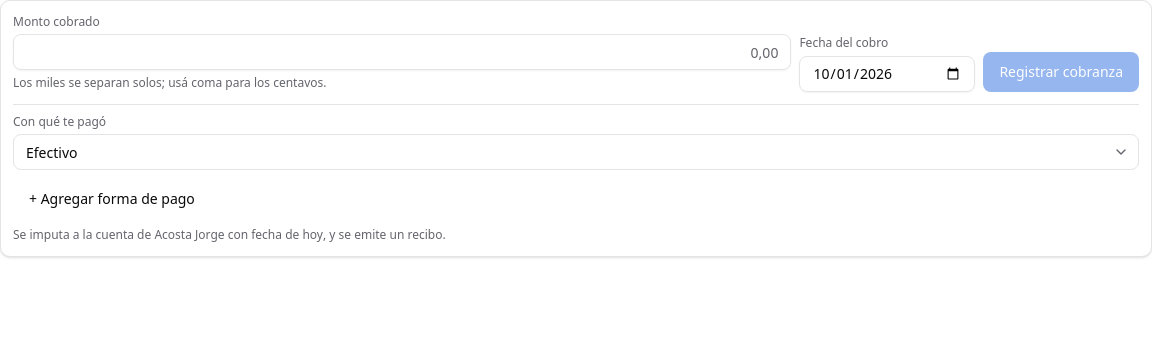
it: FormularioImputacion — formas de pago › agregar una segunda forma muestra los importes y bloquea hasta repartir
In the field labelled "Monto cobrado": (402, 52) [13,34,791,70], type "20000"
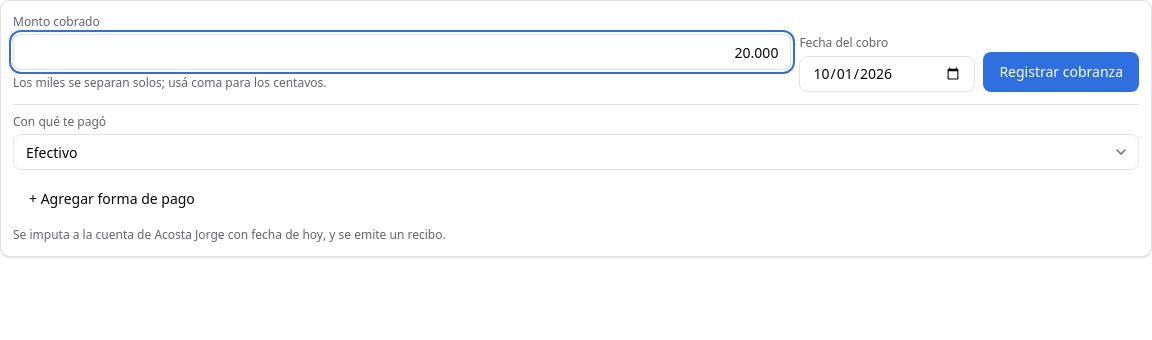
Click the button "+ Agregar forma de pago": (112, 198) [13,178,211,218]
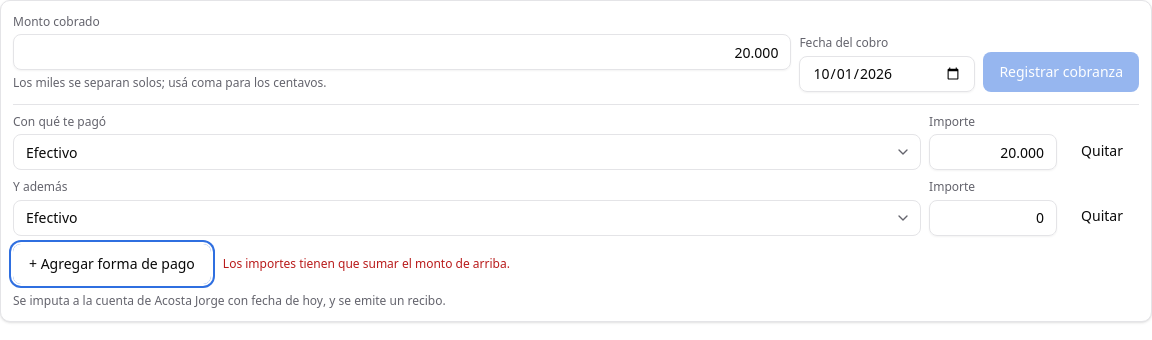
Expected: the number of fields labelled "Importe" is 2, [929,134,1057,170]; [929,200,1057,236]
Expected: the 1st field labelled "Importe" holds "20.000", [929,134,1057,170]
Expected: the 2nd field labelled "Importe" holds "0", [929,200,1057,236]
